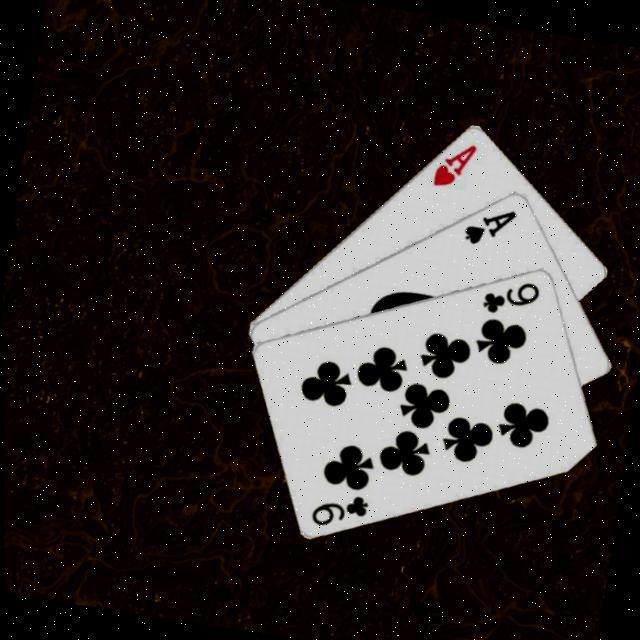9C: (477, 272, 544, 323), (304, 486, 371, 536)
AH: (427, 137, 479, 195)
AS: (458, 201, 518, 253)
